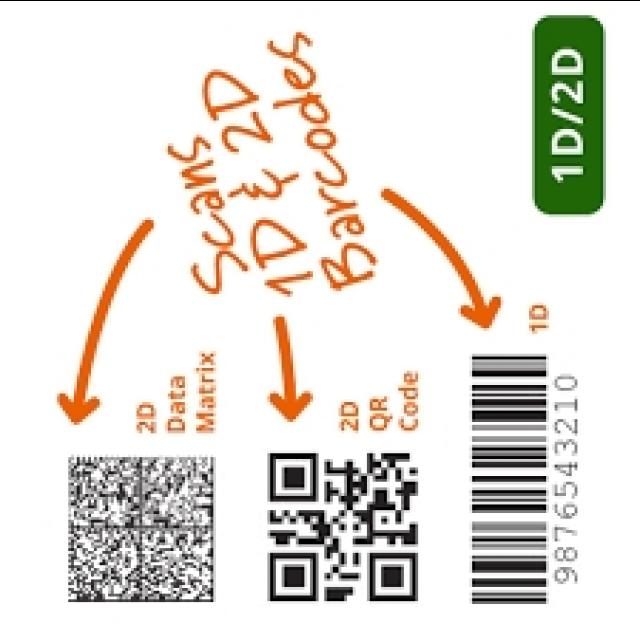DataMatrix: (60, 446, 222, 608)
